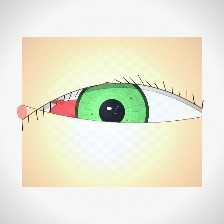hemorrhage_spot: (37, 83, 117, 147)
